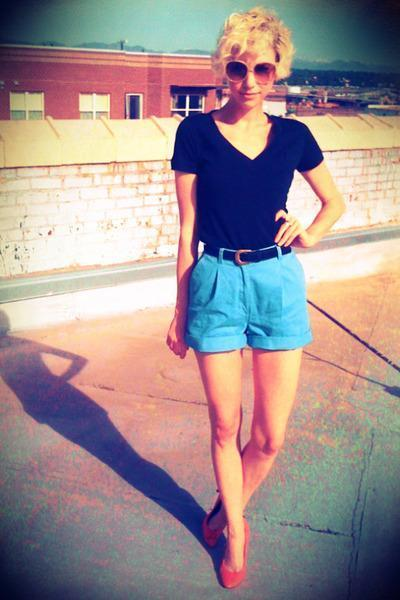shirt: (170, 110, 323, 251)
shoe: (204, 517, 246, 587)
shorts: (182, 252, 311, 351)
sunglass: (226, 61, 275, 77)
